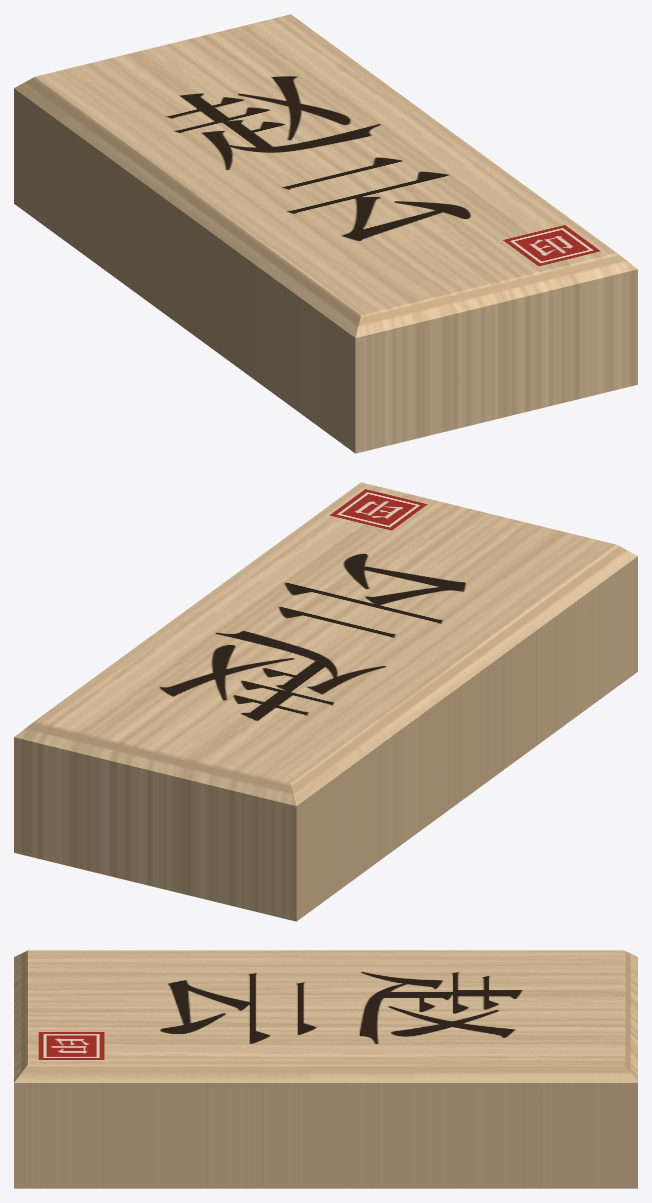
The model's file is tile_zhao.glb.
The picture shows the model from 3 angles, top to bottom: view 1: azimuth 30°, elevation 25°; view 2: azimuth 150°, elevation 25°; view 3: azimuth 270°, elevation 25°; orthographic projection. The views are drawn at different scales.
Parts seen in each view (by area): view 1: tile_zhao; view 2: tile_zhao; view 3: tile_zhao.
Part boxes in pixels (bbox=[...]): tile_zhao: bbox=[14, 14, 637, 453]; tile_zhao: bbox=[14, 482, 637, 921]; tile_zhao: bbox=[14, 950, 637, 1188].
Size of the model in its own units: 0.064 by 0.028 by 0.134.
Materials: 1 (1 with a texture image).
